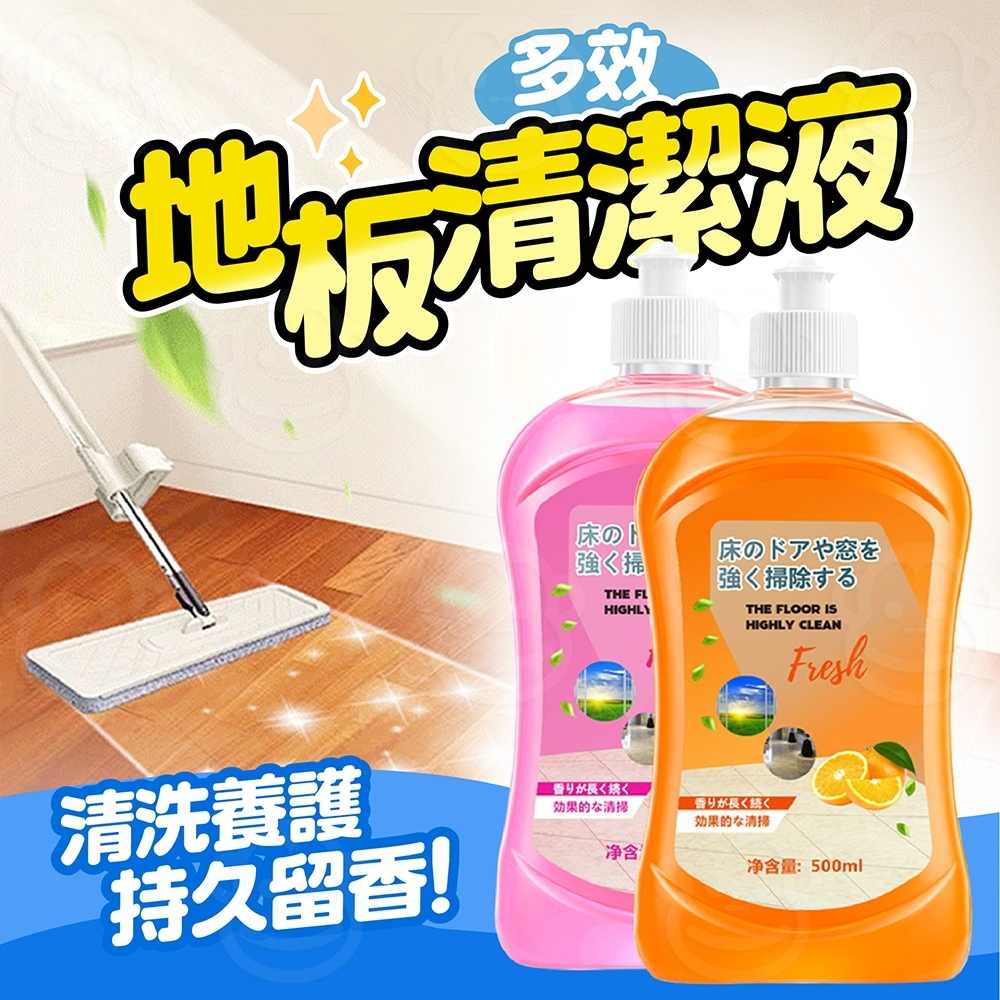cleaner: (623, 254, 982, 990), (487, 250, 804, 982)
